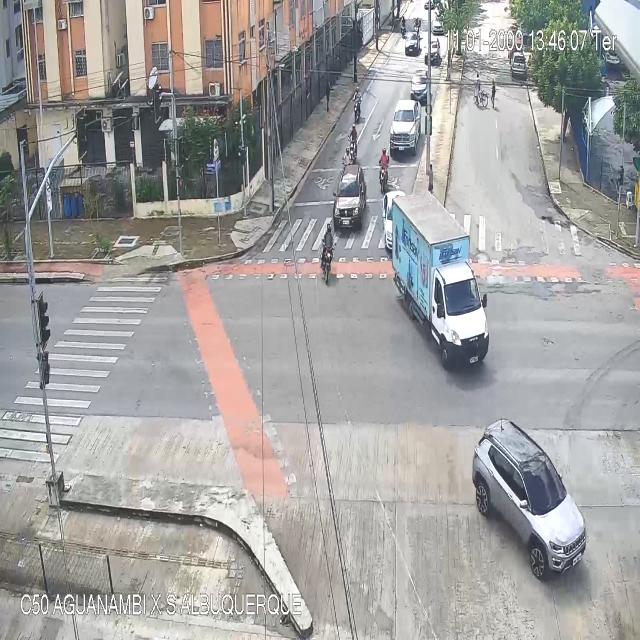Car: (472, 417, 588, 584), (332, 167, 364, 230), (390, 100, 421, 150), (411, 70, 428, 107), (424, 41, 440, 64), (406, 29, 419, 53), (512, 54, 526, 76), (432, 14, 445, 36)
Motorcycle: (321, 226, 331, 287), (379, 148, 389, 197), (348, 124, 358, 162), (353, 86, 362, 122), (341, 148, 351, 165), (414, 17, 421, 39), (400, 14, 406, 39)
Truck: (391, 192, 490, 366)
